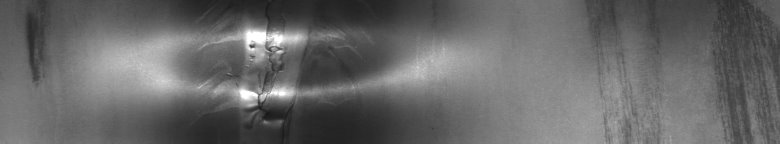ke: (198, 16, 359, 125)
